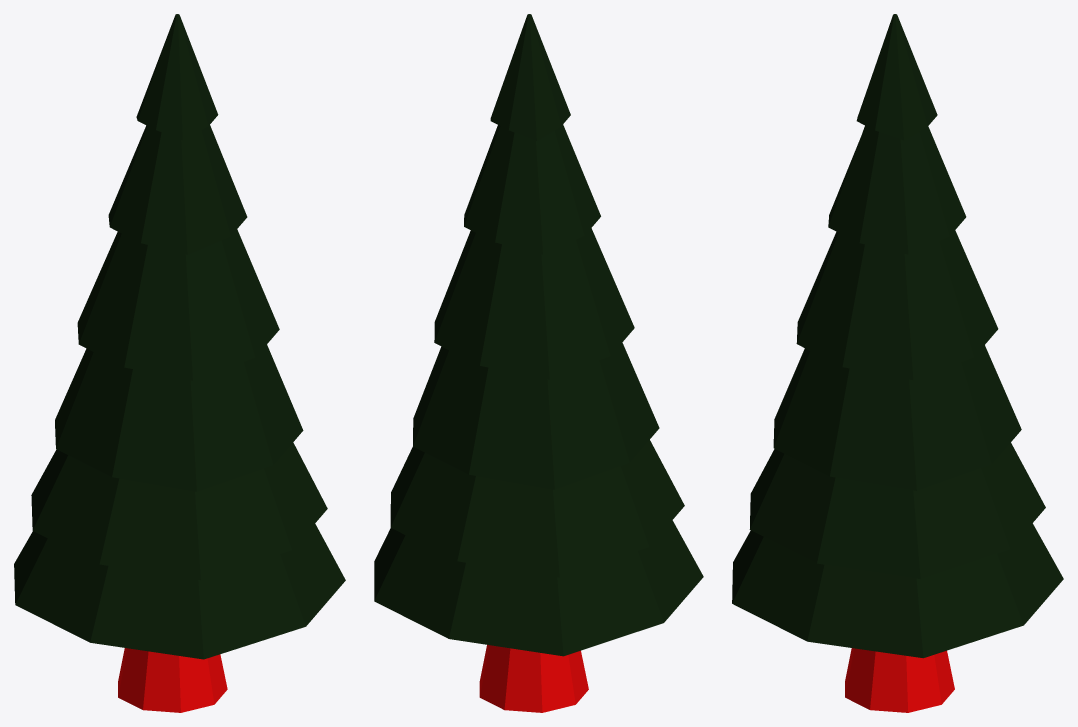
File: lowpolytree.obj
3 views of the same model, side by side, from view 1: azimuth 30°, elevation 25°; view 2: azimuth 150°, elevation 25°; view 3: azimuth 270°, elevation 25° (orthographic).
Parts seen in each view (by area): view 1: Cylinder; view 2: Cylinder; view 3: Cylinder.
Part boxes in pixels (x1,y1,x2,y2): Cylinder: (14, 14, 345, 712); Cylinder: (374, 14, 703, 712); Cylinder: (732, 14, 1063, 712).
Size of the model in its own units: 2.31 by 5.12 by 2.28.
